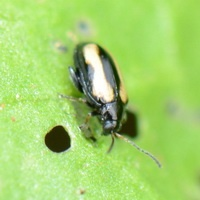insect: (60, 42, 161, 167)
